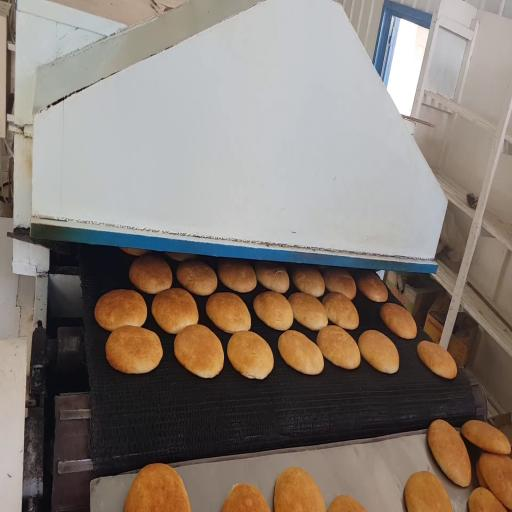bread: (125, 464, 190, 511), (428, 420, 471, 487), (106, 326, 163, 374), (174, 325, 223, 378), (274, 467, 325, 511), (227, 331, 273, 379), (95, 290, 147, 331), (152, 288, 198, 333), (278, 330, 323, 374), (404, 471, 452, 511), (317, 326, 360, 369), (479, 453, 511, 509), (359, 330, 399, 374), (206, 293, 250, 333), (129, 255, 172, 294), (462, 420, 510, 454), (254, 291, 293, 330), (417, 341, 457, 379), (288, 293, 328, 330), (177, 261, 217, 295), (380, 303, 417, 339), (322, 293, 359, 329), (222, 484, 269, 511), (218, 260, 257, 292), (291, 265, 325, 297), (255, 262, 289, 293), (324, 268, 356, 300), (468, 487, 506, 511), (357, 272, 387, 302), (329, 496, 366, 511), (476, 461, 488, 489), (166, 252, 196, 262), (120, 248, 148, 256)
